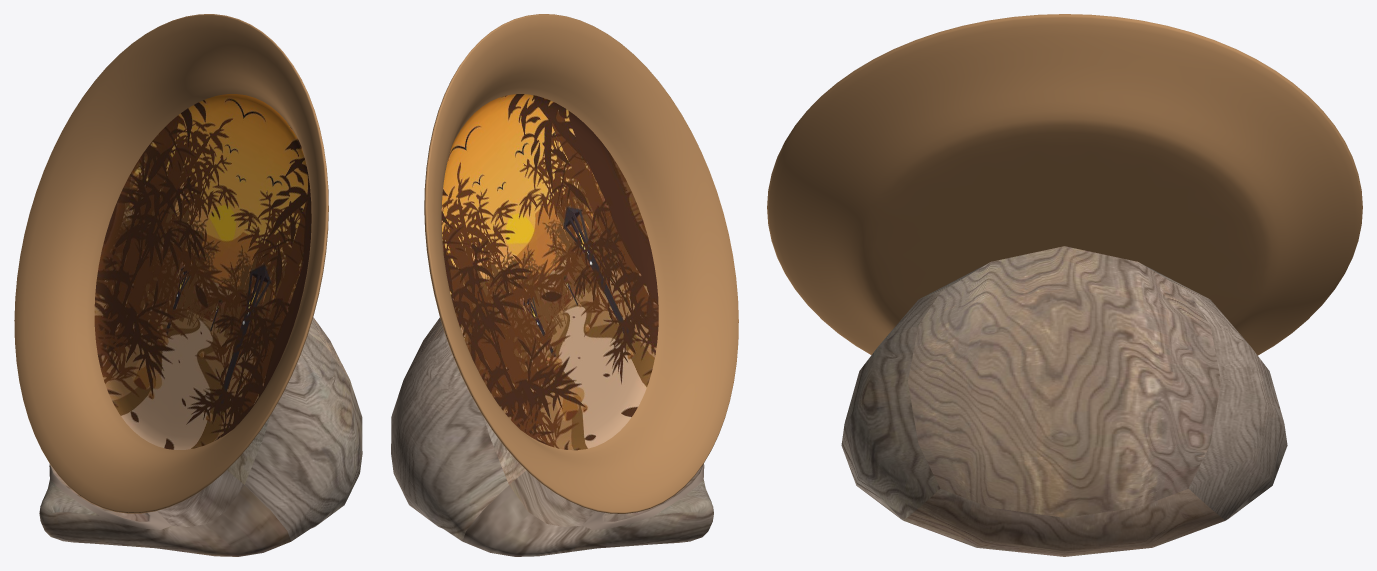
Rendered from japanese_ornament.glb.
The picture shows the model from 3 angles, left to right: view 1: azimuth 30°, elevation 25°; view 2: azimuth 150°, elevation 25°; view 3: azimuth 270°, elevation 25°; orthographic projection. The views are drawn at different scales.
Parts seen in each view (by area): view 1: Cylinder, Cube; view 2: Cylinder, Cube; view 3: Cylinder, Cube.
Boxes of the visible parts, left/top/right/bottom form: Cylinder: left=14, top=14, right=328, bottom=513; Cube: left=39, top=317, right=362, bottom=556; Cylinder: left=424, top=14, right=738, bottom=513; Cube: left=391, top=317, right=713, bottom=556; Cylinder: left=767, top=14, right=1362, bottom=355; Cube: left=841, top=246, right=1287, bottom=556.
Bounding box in the file's own units: 1.59 × 2.45 × 2.45.
Materials: 2 (2 with a texture image).
